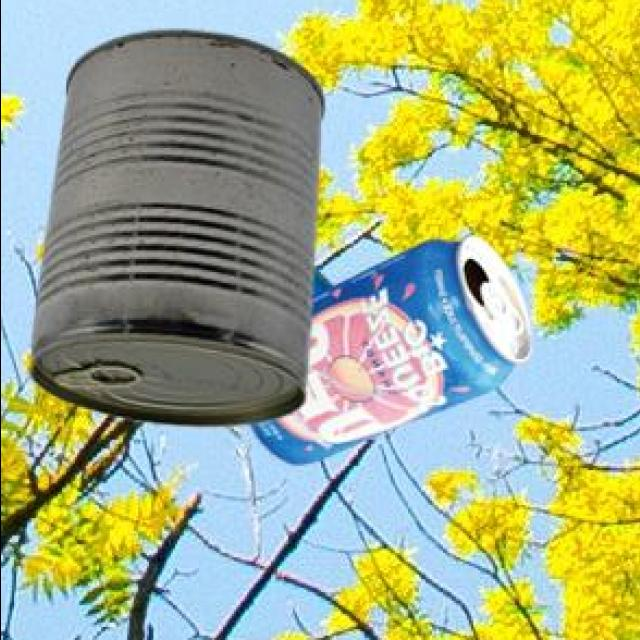logam: (27, 27, 319, 421), (245, 234, 528, 460), (308, 264, 330, 295)
